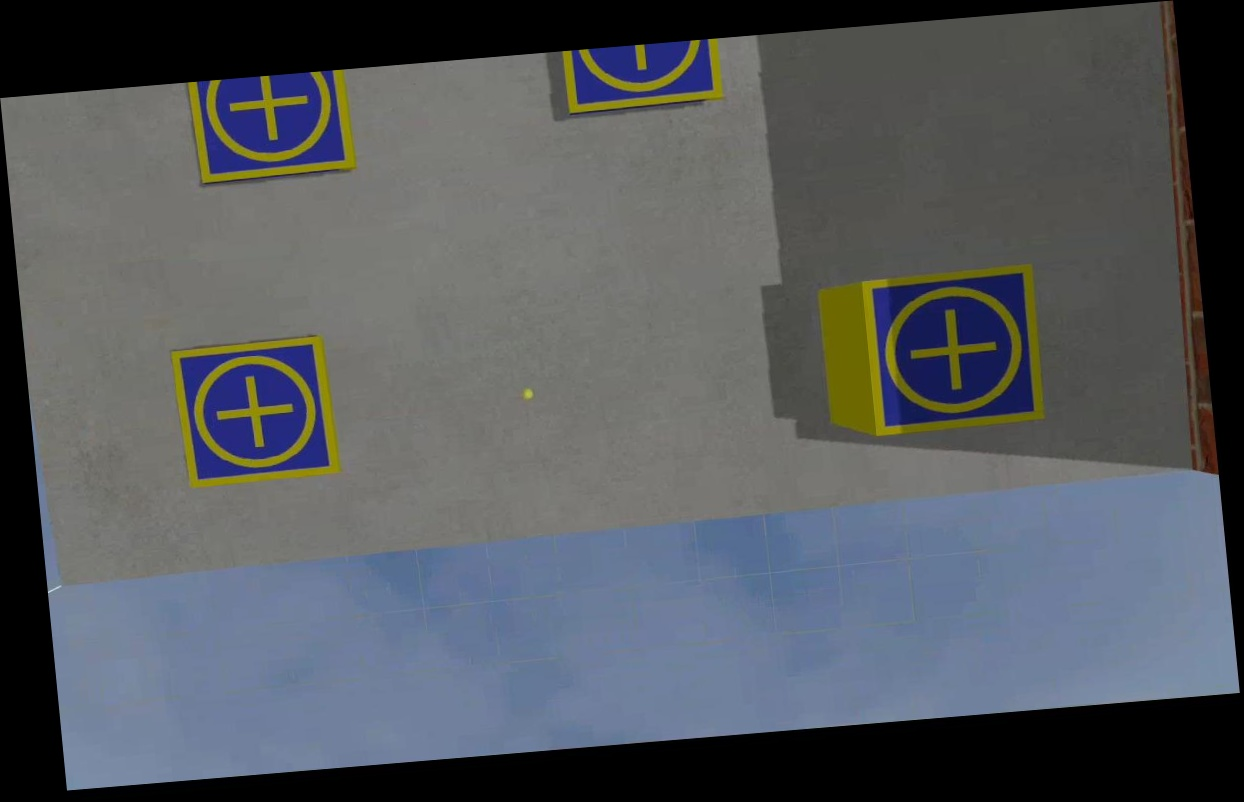small_base: (858, 262, 1049, 441), (167, 334, 344, 491), (188, 69, 358, 186), (560, 38, 727, 113)
